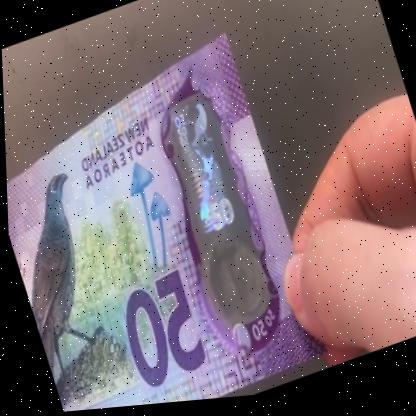50B: (160, 95, 265, 324)
